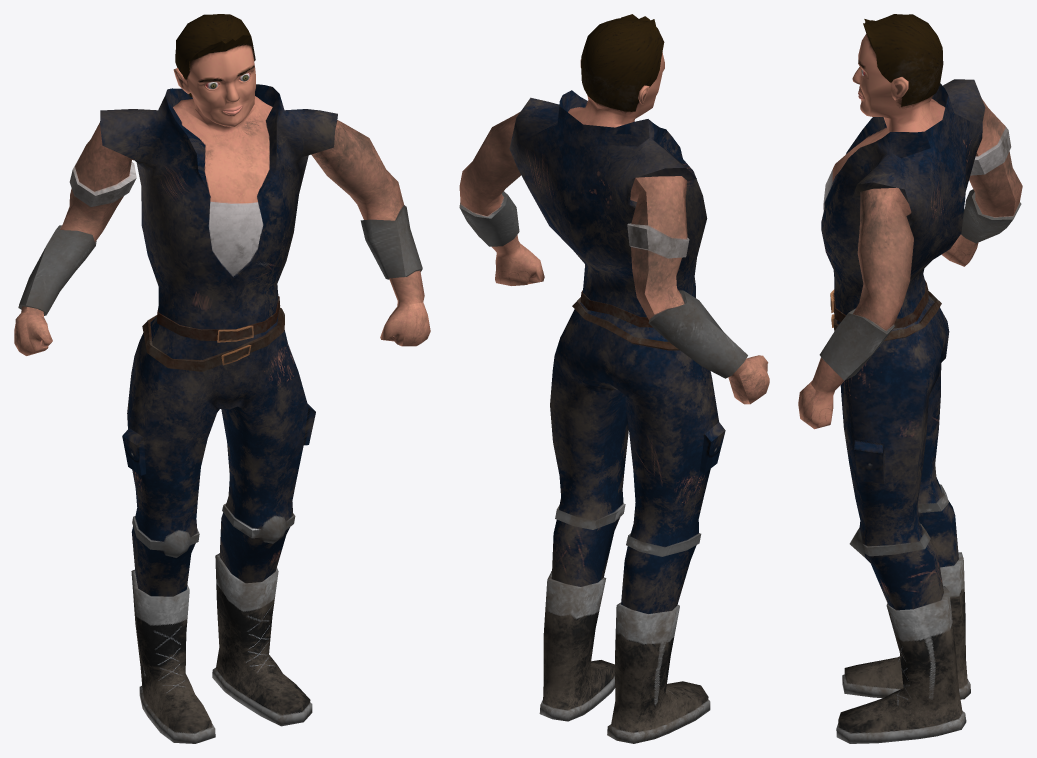
The model's file is Anim_ataque_f1_jugador.0009.obj.
3 views of the same model, side by side, from view 1: azimuth 30°, elevation 25°; view 2: azimuth 150°, elevation 25°; view 3: azimuth 270°, elevation 25° (orthographic).
Parts seen in each view (by area): view 1: polySurface1; view 2: polySurface1; view 3: polySurface1.
Boxes of the visible parts, <box> form: polySurface1: <box>14,14,430,743</box>; polySurface1: <box>459,14,769,743</box>; polySurface1: <box>798,14,1022,743</box>.
Bounding box in the file's own units: 5.01 × 9.57 × 2.81.
